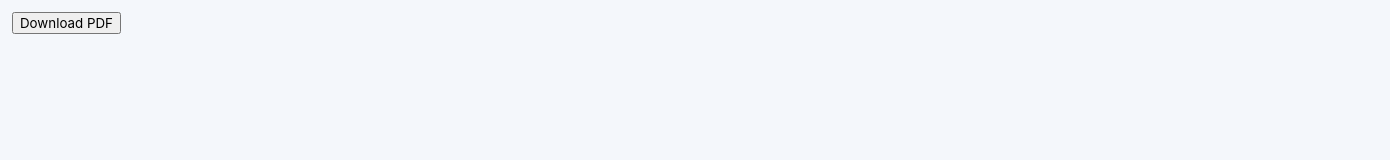
a removed PDF or network failure closes the session and displays a retryable error
This screenshot has width=1390, height=160.
Click the button "Download PDF": (66, 23) [12,12,121,34]
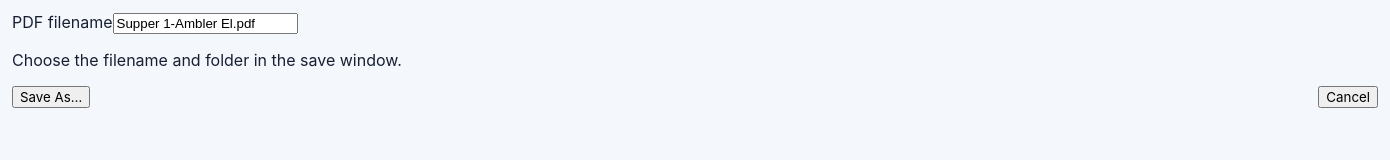
Click the button "Save As…": (51, 97) [12,86,90,108]
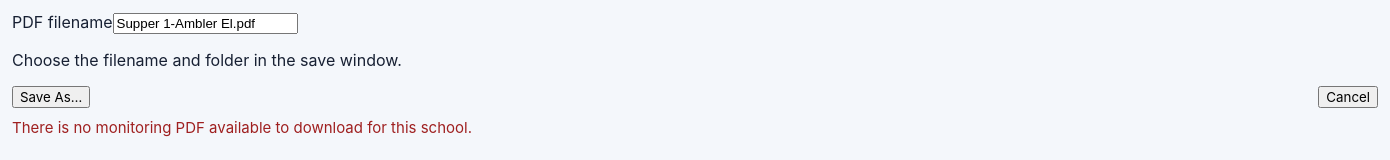
expect the message "There is no monitoring PDF available to download for this school." is shown: met, box [12,118,472,137]
Click the button "Save As…": (51, 97) [12,86,90,108]
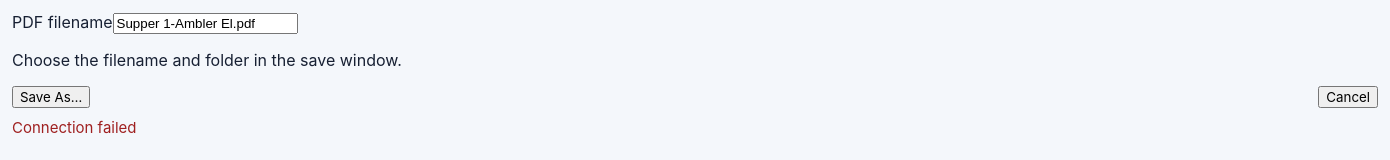
expect the message "Connection failed" is shown: met, box [12,118,136,137]
